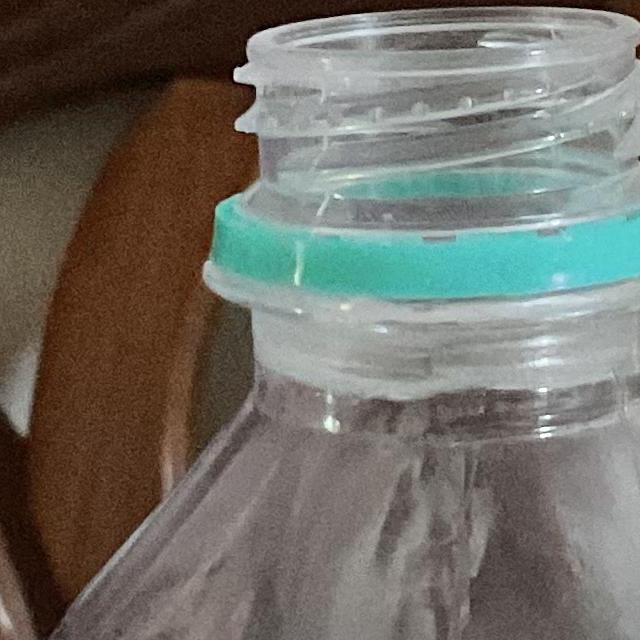open-cap: (221, 0, 640, 279)
